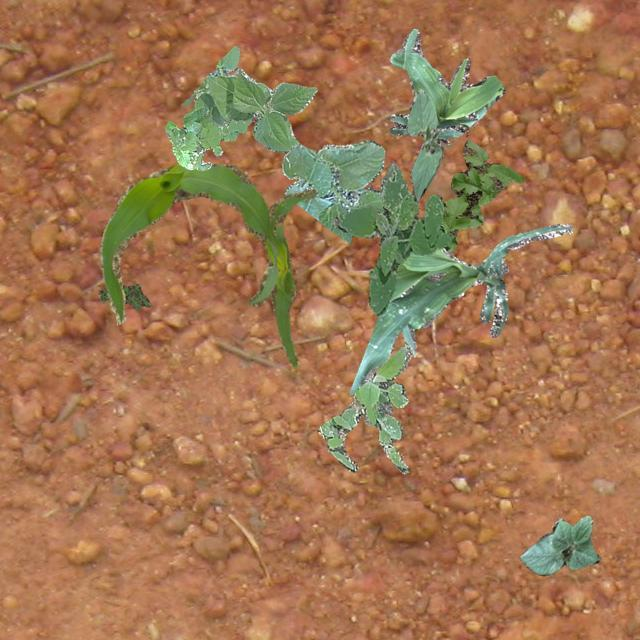crop: (98, 162, 316, 368), (348, 222, 572, 394), (182, 45, 316, 152), (388, 28, 504, 144), (282, 138, 384, 242), (518, 514, 600, 574), (406, 89, 442, 200)
weed: (332, 162, 451, 314), (316, 342, 412, 472), (442, 138, 524, 252), (164, 104, 245, 170), (98, 282, 150, 310)
